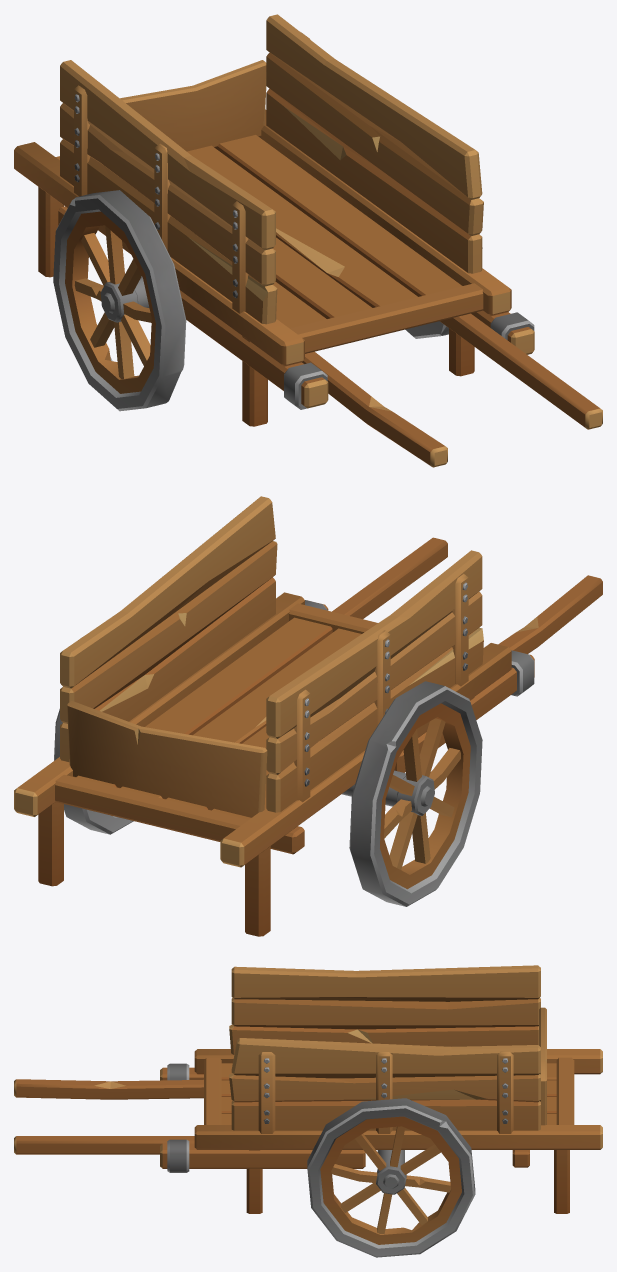
File: Cart_1_C.glb
3 views of the same model, one above another, from view 1: azimuth 30°, elevation 25°; view 2: azimuth 150°, elevation 25°; view 3: azimuth 270°, elevation 25° (orthographic). The views are drawn at different scales.
Parts seen in each view (by area): view 1: Cart_1_C; view 2: Cart_1_C; view 3: Cart_1_C.
Boxes of the visible parts, box(x1,y1,x2,y2) form: Cart_1_C: box(14, 14, 602, 467); Cart_1_C: box(14, 496, 602, 936); Cart_1_C: box(14, 965, 602, 1257).
Bounding box in the file's own units: 1.88 × 1.46 × 3.94.
Materials: 2 (2 with a texture image).
